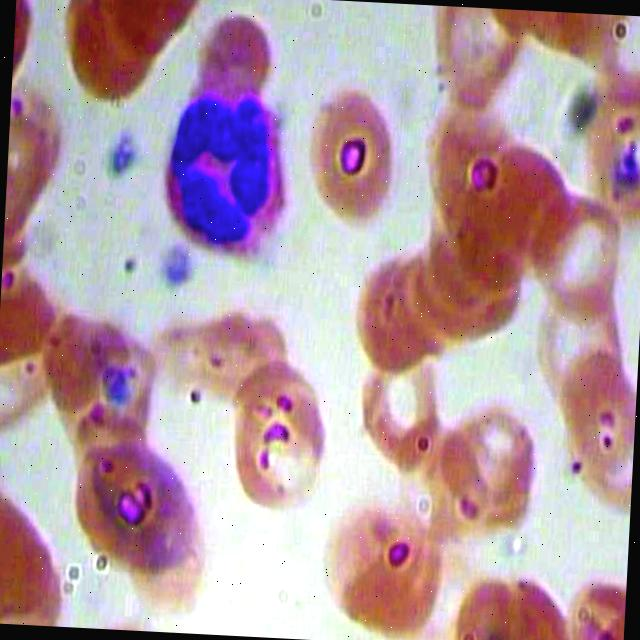Platelets: (104, 122, 146, 187)
RBC: (66, 420, 206, 583), (316, 490, 452, 640), (36, 302, 170, 451), (222, 360, 342, 510), (294, 78, 414, 228), (392, 212, 507, 356), (349, 240, 463, 384), (418, 211, 532, 354), (524, 270, 640, 398), (525, 187, 640, 315), (472, 136, 576, 274), (421, 84, 524, 222), (426, 178, 529, 316), (420, 5, 540, 122), (192, 286, 299, 412), (351, 336, 450, 470), (449, 401, 548, 535), (411, 422, 510, 556), (545, 342, 639, 478), (54, 0, 173, 107), (181, 3, 289, 118), (441, 556, 576, 640), (0, 474, 74, 627)
WBC: (158, 86, 296, 260)
